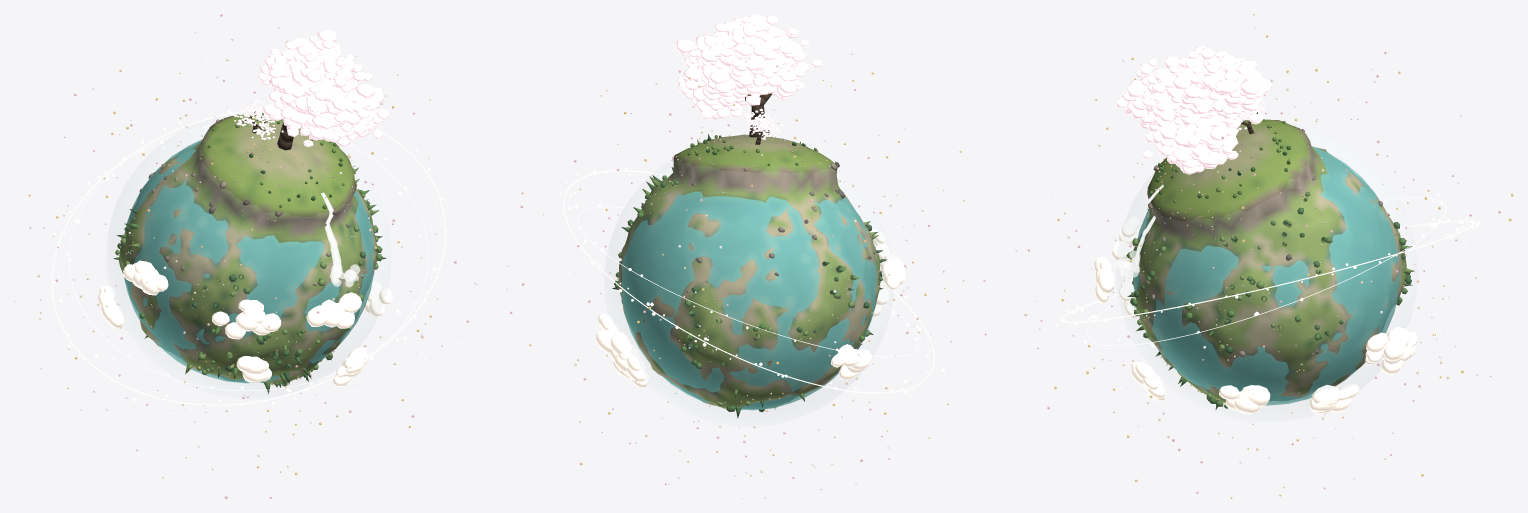
The model's file is planet_bloom_evolved.glb.
The picture shows the model from 3 angles, left to right: view 1: azimuth 30°, elevation 25°; view 2: azimuth 150°, elevation 25°; view 3: azimuth 270°, elevation 25°; orthographic projection. The views are drawn at different scales.
Visible parts, largest first — view 1: Terrain, Water, Blossom, CloudPuffs, Vegetation, RingBand, RingBandInner, Petals, Waterfall; view 2: Terrain, Water, Blossom, CloudPuffs, Vegetation, RingBand, Petals, RingBandInner; view 3: Terrain, Water, Blossom, CloudPuffs, Vegetation, RingBand, Petals, RingBandInner.
Part boxes in pixels (x1,y1,x2,y2): Terrain: [119, 114, 377, 384]; Water: [124, 139, 374, 383]; Blossom: [234, 30, 388, 146]; CloudPuffs: [98, 260, 392, 386]; Vegetation: [113, 113, 386, 394]; RingBand: [46, 108, 448, 410]; RingBandInner: [66, 119, 435, 391]; Petals: [14, 14, 477, 498]; Waterfall: [321, 192, 342, 273]; Terrain: [618, 134, 880, 408]; Water: [621, 191, 876, 410]; Blossom: [675, 14, 822, 139]; CloudPuffs: [596, 229, 905, 387]; Vegetation: [612, 134, 886, 418]; RingBand: [560, 167, 945, 400]; Petals: [506, 37, 986, 498]; RingBandInner: [575, 203, 928, 358]; Terrain: [1133, 119, 1406, 402]; Water: [1133, 146, 1399, 405]; Blossom: [1116, 46, 1271, 174]; CloudPuffs: [1094, 216, 1417, 414]; Vegetation: [1126, 120, 1414, 409]; RingBand: [1055, 218, 1480, 326]; Petals: [1015, 14, 1513, 498]; RingBandInner: [1082, 194, 1453, 347].
Size of the model in its own units: 3.53 by 3.83 by 3.72.
